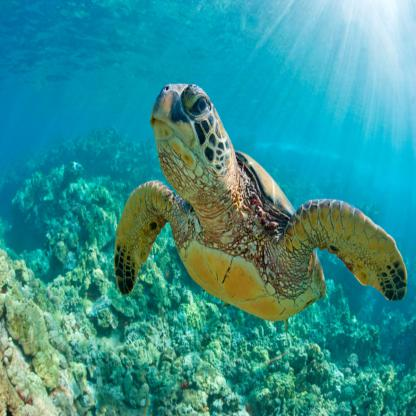turtle: (147, 73, 233, 206)
